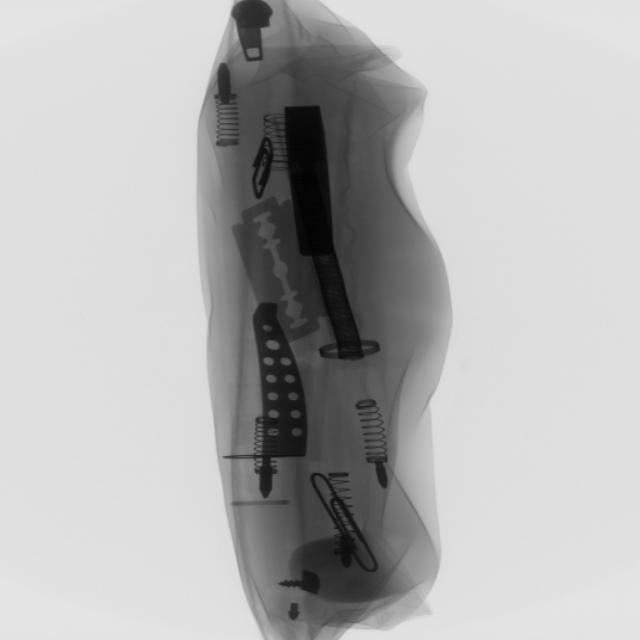BLADE: (230, 187, 323, 350)
